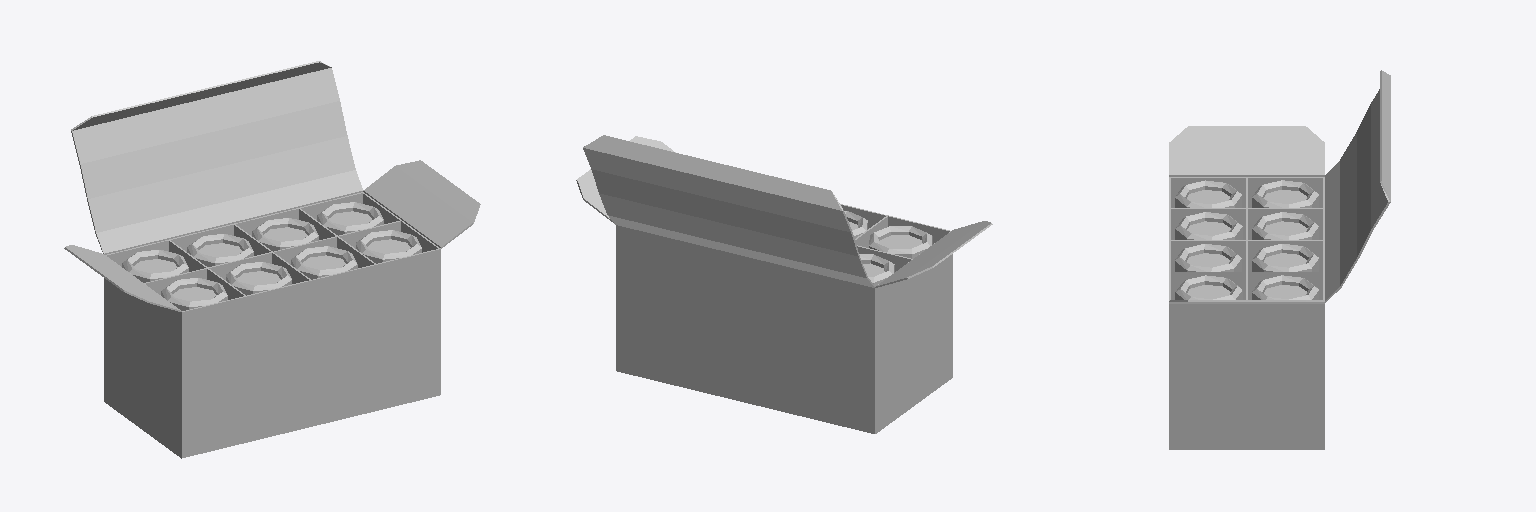
Rendered from shotgun_ammo_2_1.obj.
3 views of the same model, side by side, from view 1: azimuth 30°, elevation 25°; view 2: azimuth 150°, elevation 25°; view 3: azimuth 270°, elevation 25° (orthographic).
Visible parts, largest first — view 1: shotgun_ammo_2_1; view 2: shotgun_ammo_2_1; view 3: shotgun_ammo_2_1.
Boxes of the visible parts, box(x1,y1,x2,y2) form: shotgun_ammo_2_1: box(64, 61, 480, 458); shotgun_ammo_2_1: box(576, 135, 992, 433); shotgun_ammo_2_1: box(1169, 70, 1390, 449).
Bounding box in the file's own units: 0.1979 × 0.138 × 0.1063.